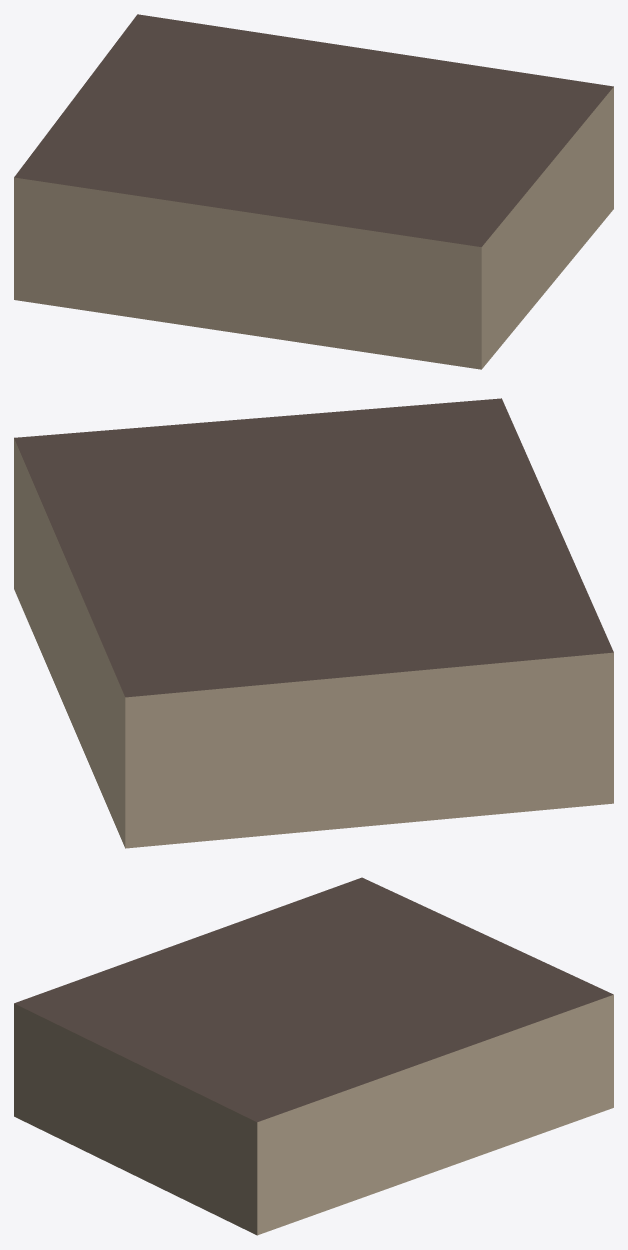
The picture shows the model from 3 angles, top to bottom: view 1: azimuth 30°, elevation 25°; view 2: azimuth 150°, elevation 25°; view 3: azimuth 270°, elevation 25°; orthographic projection. The views are drawn at different scales.
Visible parts, largest first — view 1: HP-w369342565; view 2: HP-w369342565; view 3: HP-w369342565.
Boxes of the visible parts, <box> form: HP-w369342565: <box>14,14,613,369</box>; HP-w369342565: <box>14,398,613,848</box>; HP-w369342565: <box>14,877,613,1235</box>.
Size of the model in its own units: 41.77 by 9 by 43.25.
